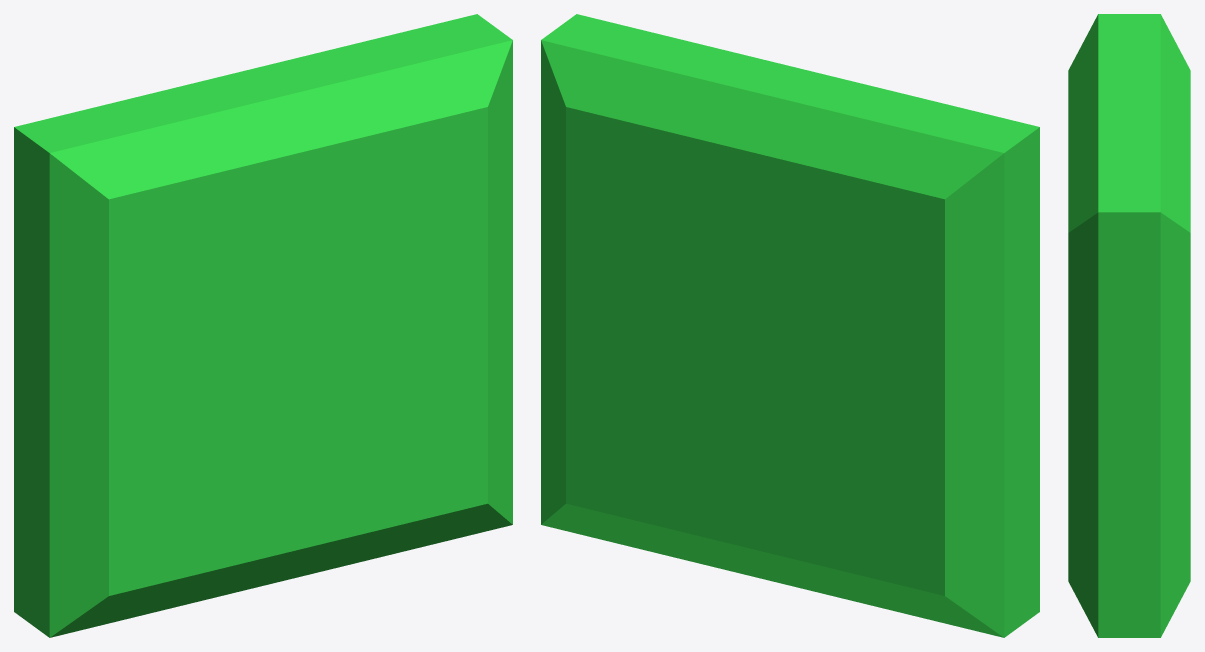
The model's file is yesilTas.fbx.
3 renders of one model, left to right at view 1: azimuth 30°, elevation 25°; view 2: azimuth 150°, elevation 25°; view 3: azimuth 270°, elevation 25°, orthographic. The views are drawn at different scales.
Visible parts, largest first — view 1: yesilTas; view 2: yesilTas; view 3: yesilTas.
Part boxes in pixels (bbox=[...]): yesilTas: bbox=[14, 14, 512, 637]; yesilTas: bbox=[541, 14, 1039, 637]; yesilTas: bbox=[1068, 14, 1190, 637].
Size of the model in its own units: 200 by 200 by 52.18.
